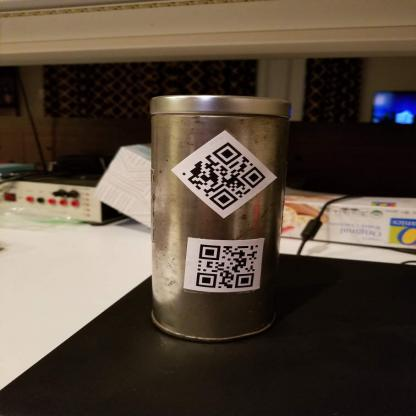qr: (177, 140, 271, 214), (186, 240, 260, 289)
